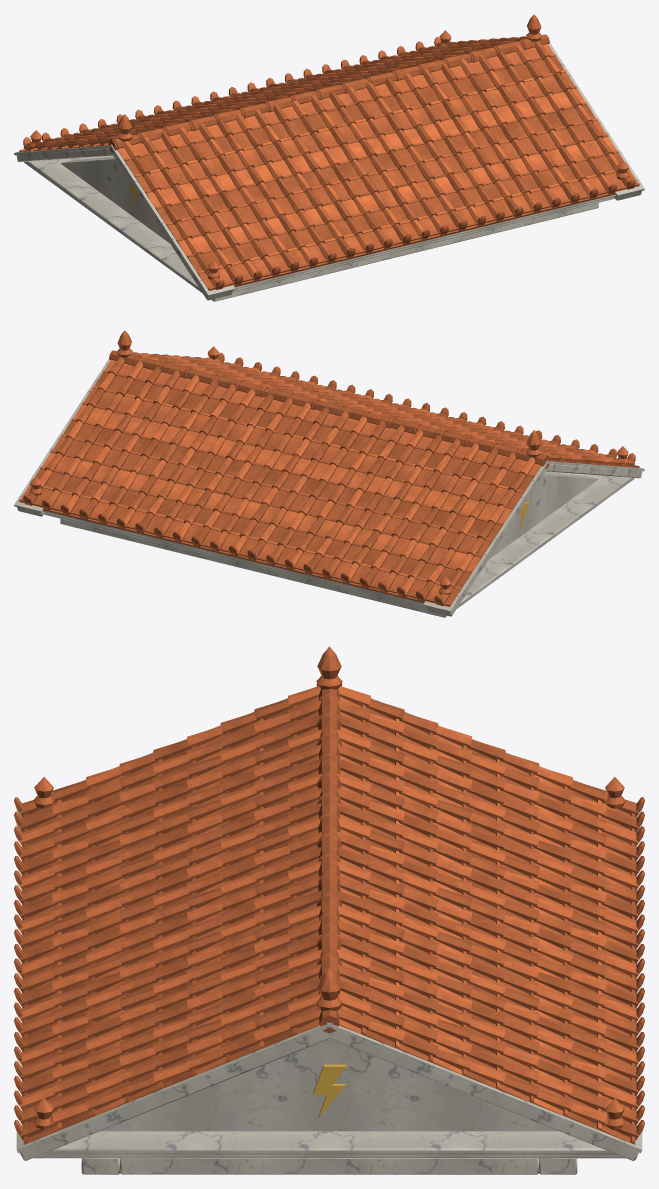
Rendered from home_villa-roof_t1_terracotta.glb.
3 renders of one model, top to bottom at view 1: azimuth 30°, elevation 25°; view 2: azimuth 150°, elevation 25°; view 3: azimuth 270°, elevation 25°, orthographic. The views are drawn at different scales.
Parts seen in each view (by area): view 1: tile0, tile1, tile2, marble; view 2: tile0, tile1, tile2, marble; view 3: tile0, tile1, tile2, marble, gold.
Part boxes in pixels (x1,y1,x2,y2): tile0: [21, 14, 639, 290]; tile1: [19, 34, 639, 290]; tile2: [30, 37, 629, 280]; marble: [14, 43, 644, 301]; tile0: [19, 330, 637, 606]; tile1: [19, 350, 639, 606]; tile2: [29, 353, 628, 596]; marble: [14, 359, 644, 617]; tile0: [14, 646, 644, 1144]; tile1: [20, 676, 638, 1143]; tile2: [20, 686, 638, 1129]; marble: [16, 686, 642, 1174]; gold: [313, 1064, 346, 1117].
Size of the model in its own units: 7.36 by 2.17 by 5.73.
Materials: 5 (4 with a texture image).
